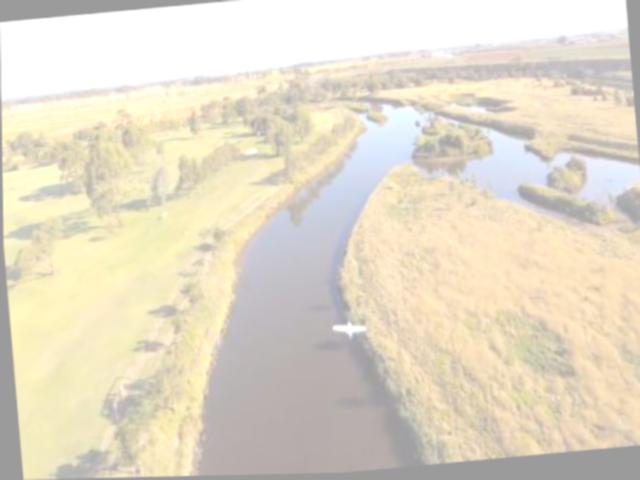uav: (330, 314, 367, 344)
